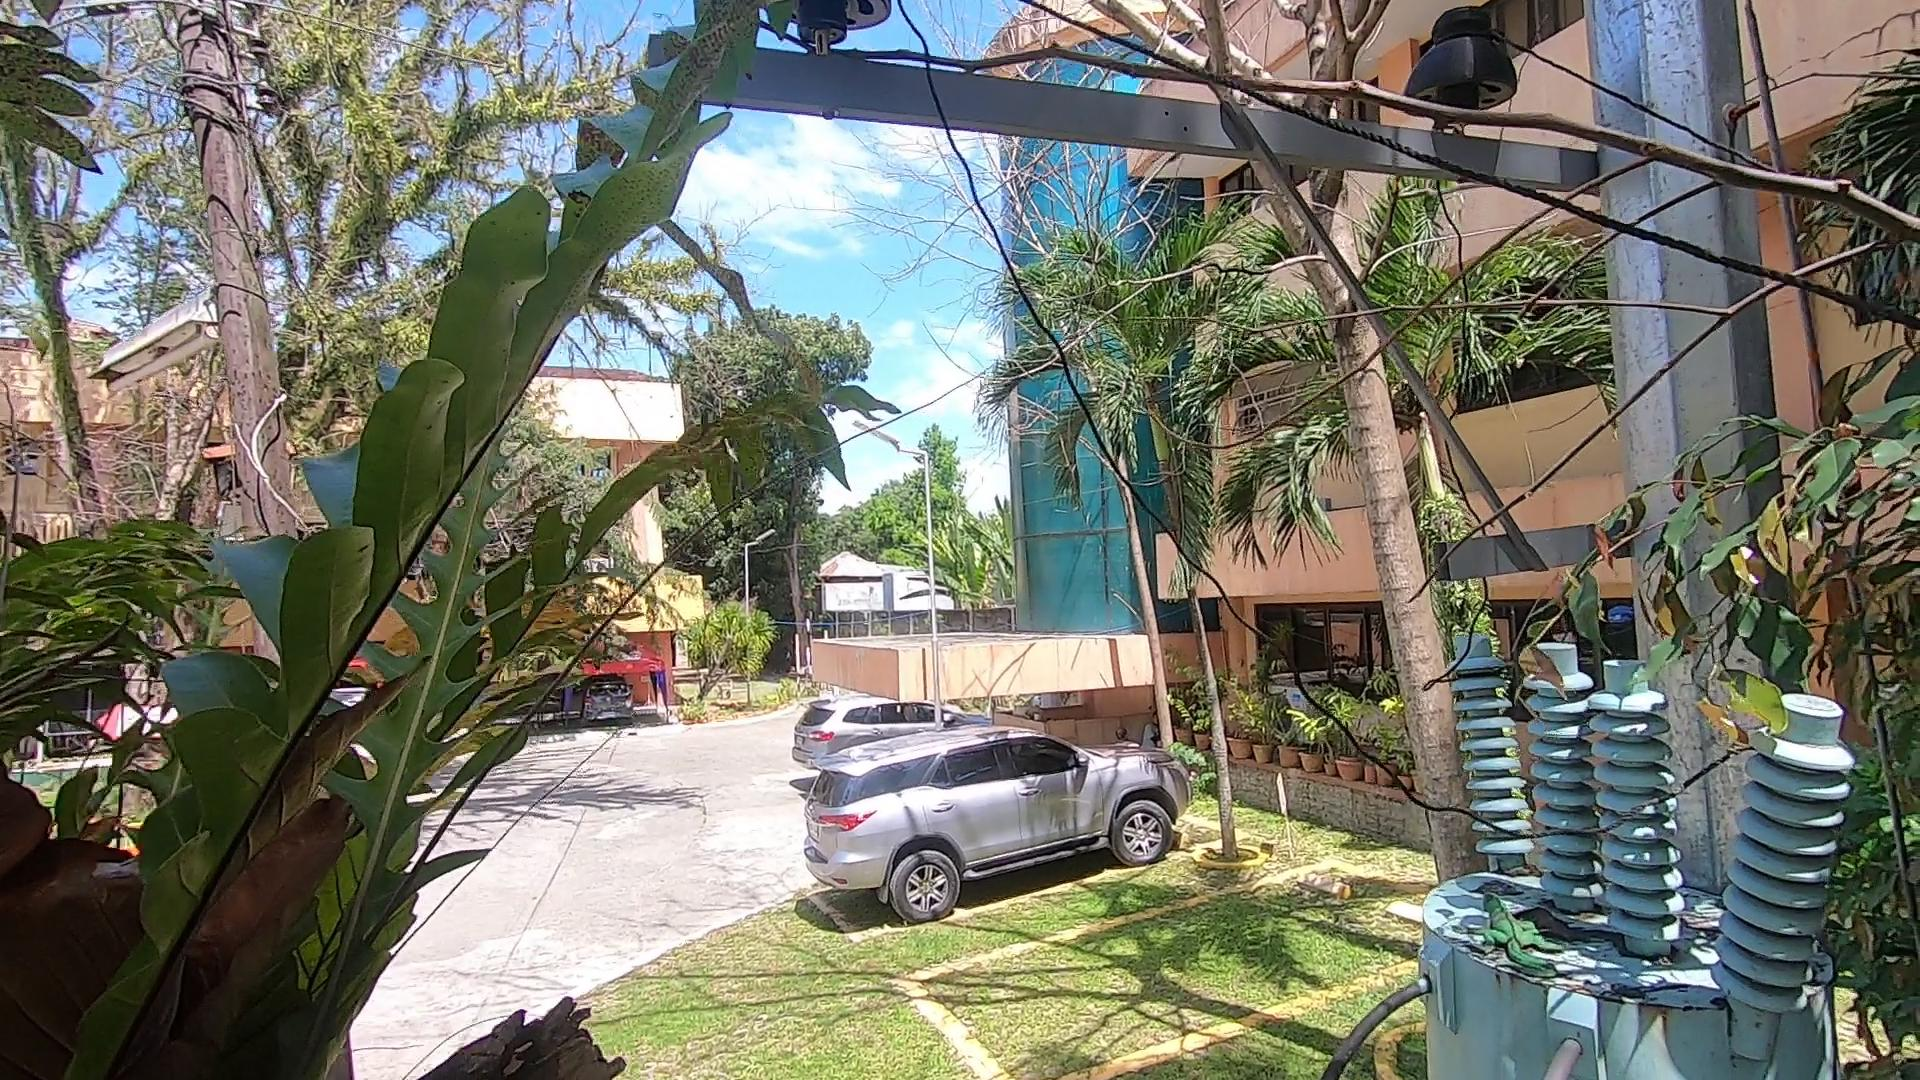leaf: (1516, 895, 1604, 945)
tree branch: (667, 11, 1919, 599)
